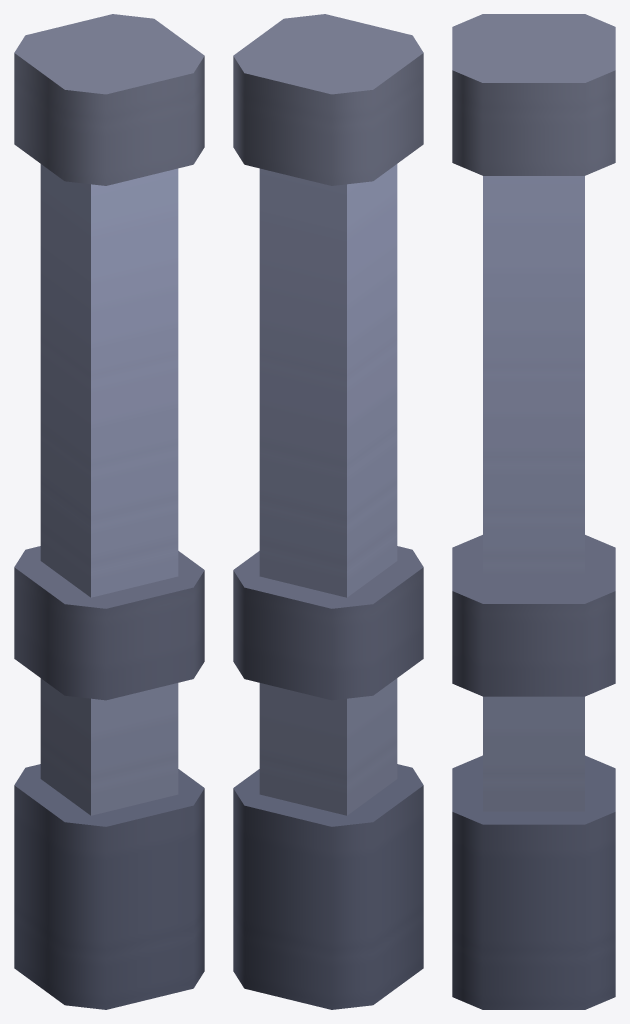
Rendered from pillar-stone.fbx.
3 views of the same model, side by side, from view 1: azimuth 30°, elevation 25°; view 2: azimuth 150°, elevation 25°; view 3: azimuth 270°, elevation 25° (orthographic).
Parts seen in each view (by area): view 1: pillar-stone; view 2: pillar-stone; view 3: pillar-stone.
Boxes of the visible parts, x1,y1,x2,y2 form: pillar-stone: [14, 14, 204, 1009]; pillar-stone: [233, 14, 423, 1009]; pillar-stone: [452, 14, 615, 1009].
Bounding box in the file's own units: 16 × 100 × 16.
Materials: 1 (1 with a texture image).
